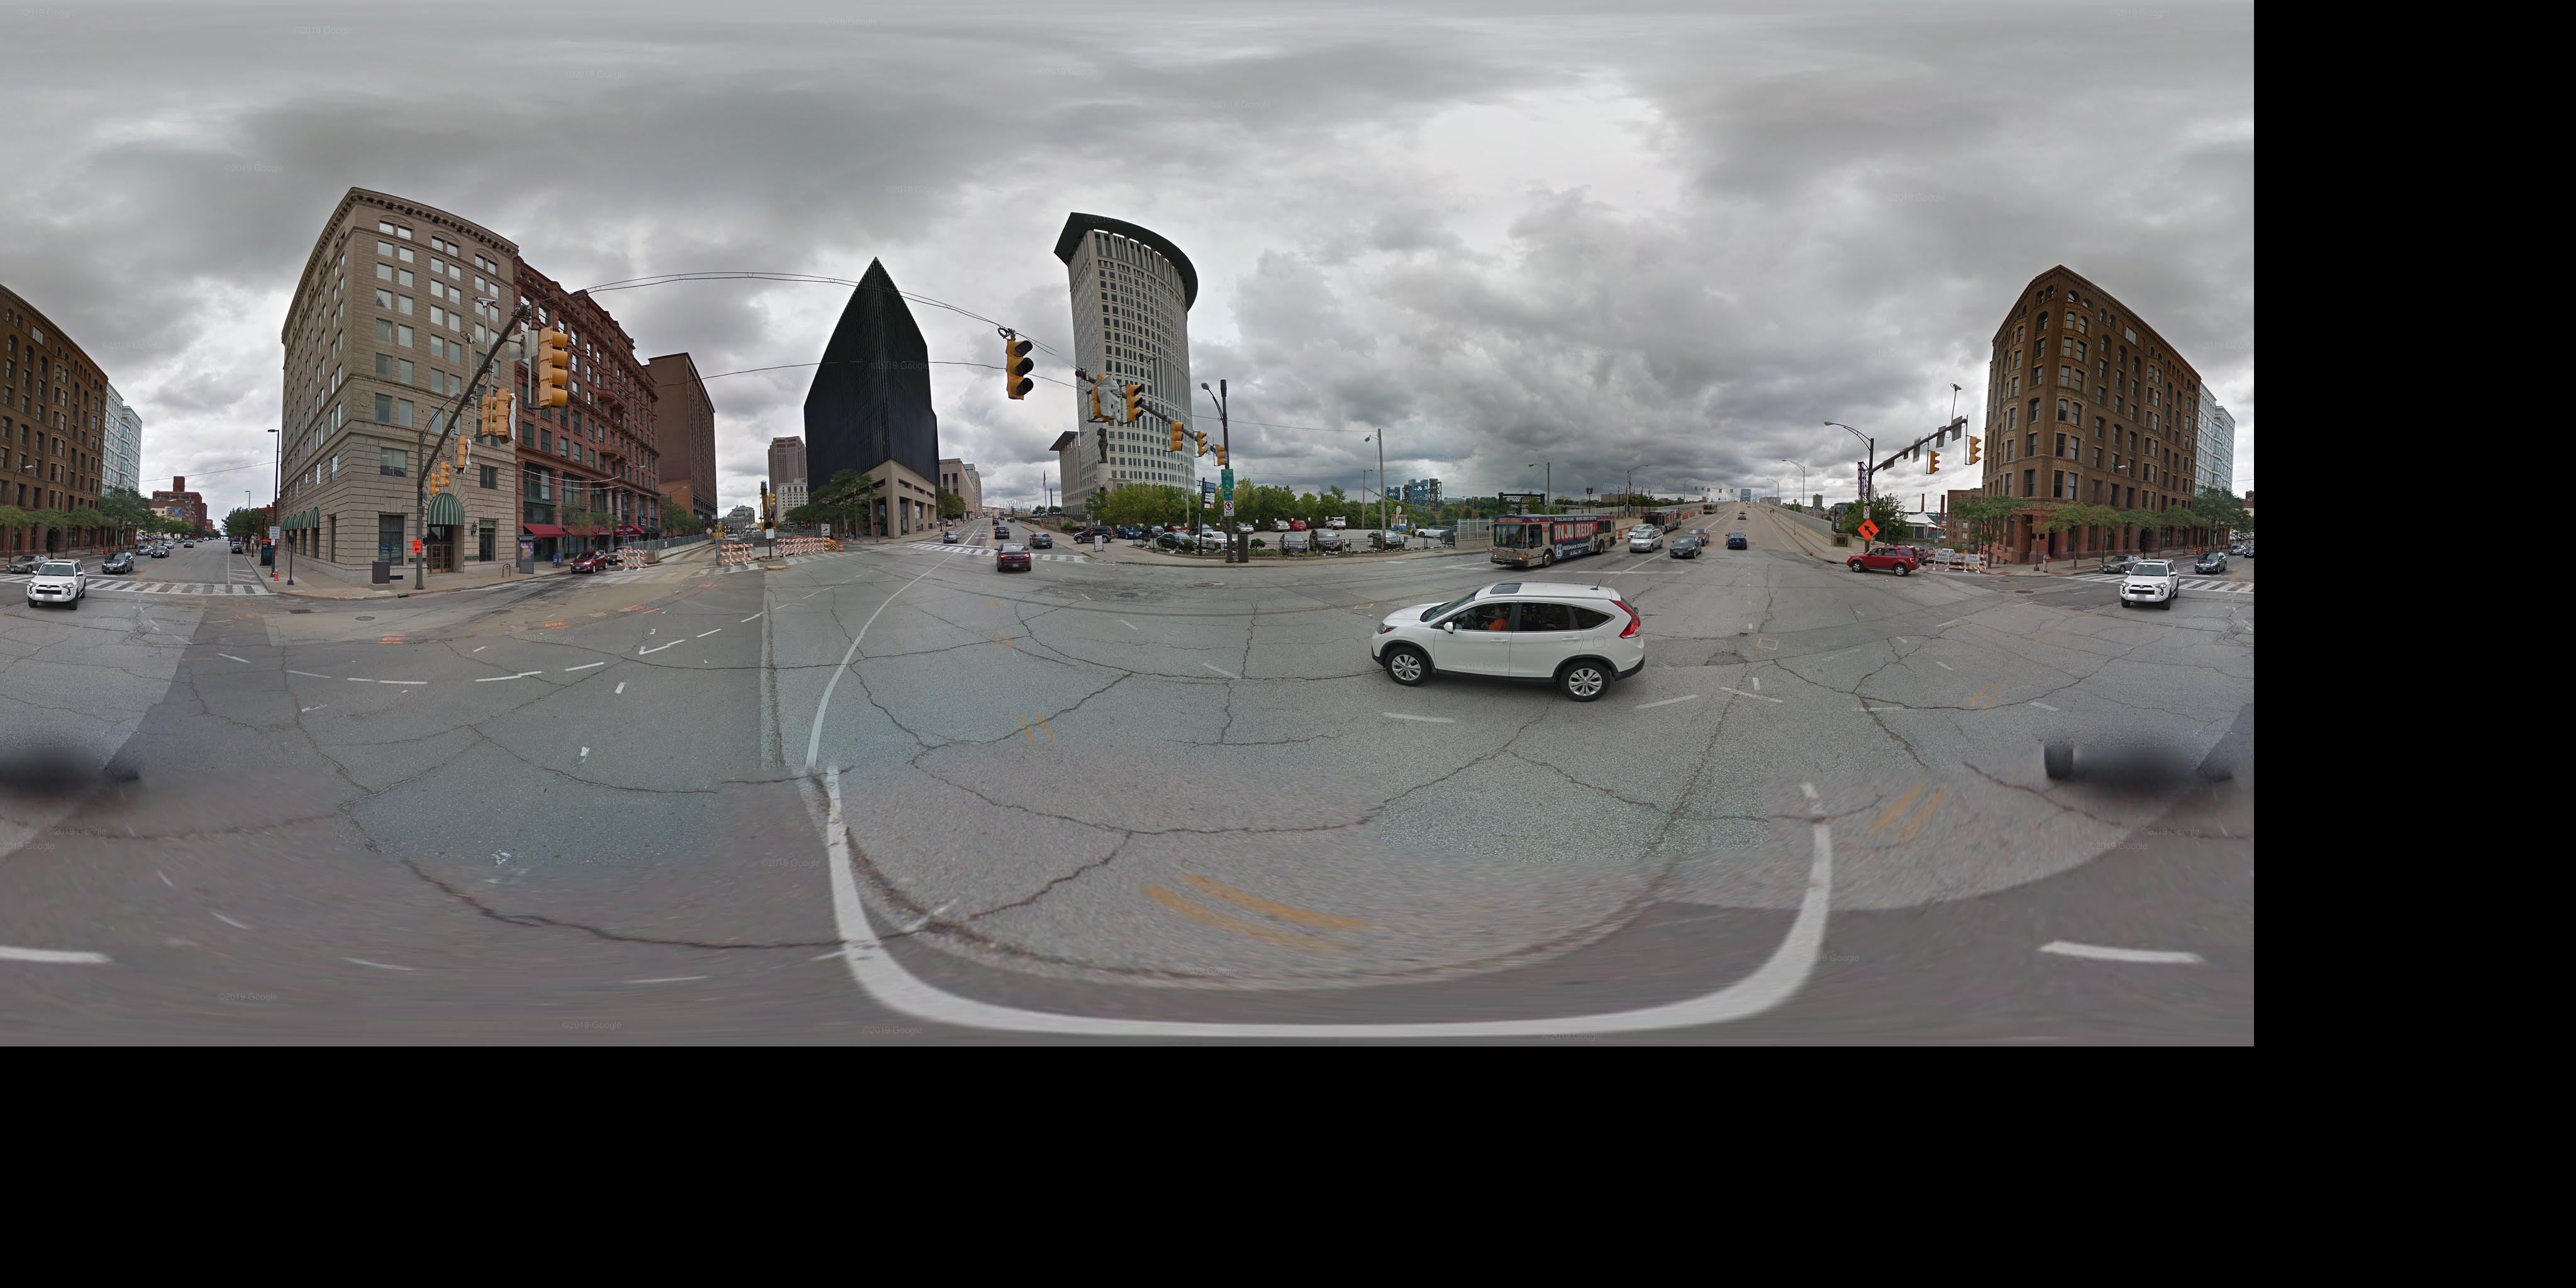Curb Ramp: (260, 578, 289, 596), (2047, 565, 2070, 578), (1991, 568, 2016, 580), (887, 537, 907, 547)
Missing Curb Ramp: (511, 568, 554, 586), (1086, 550, 1119, 568)
